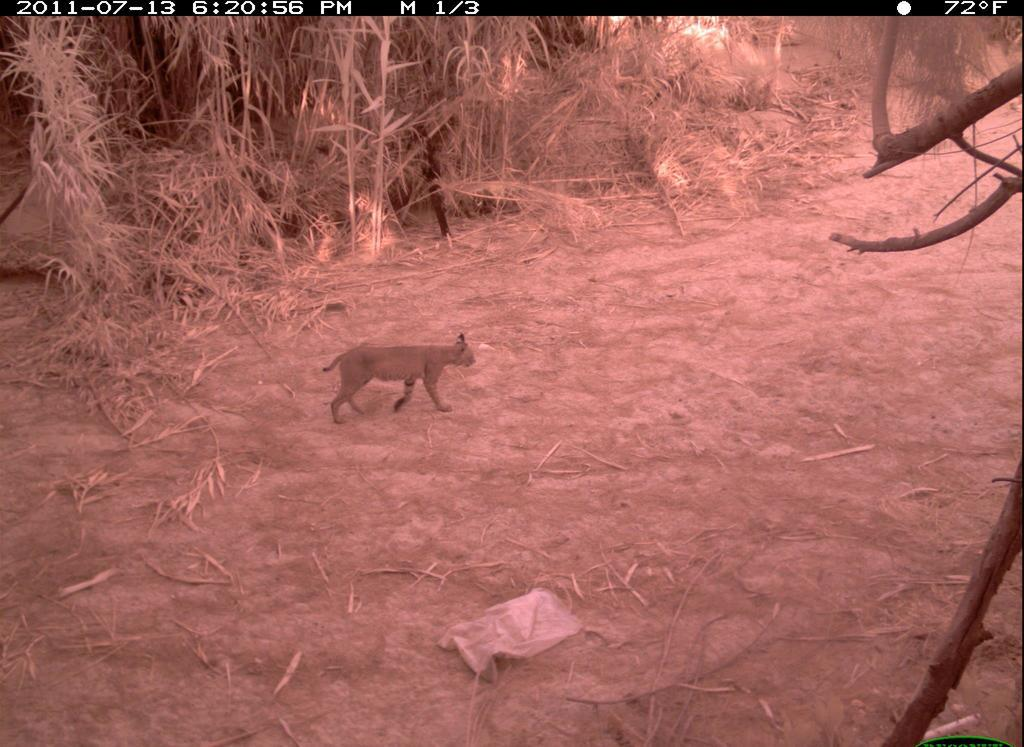bobcat: (319, 332, 482, 431)
